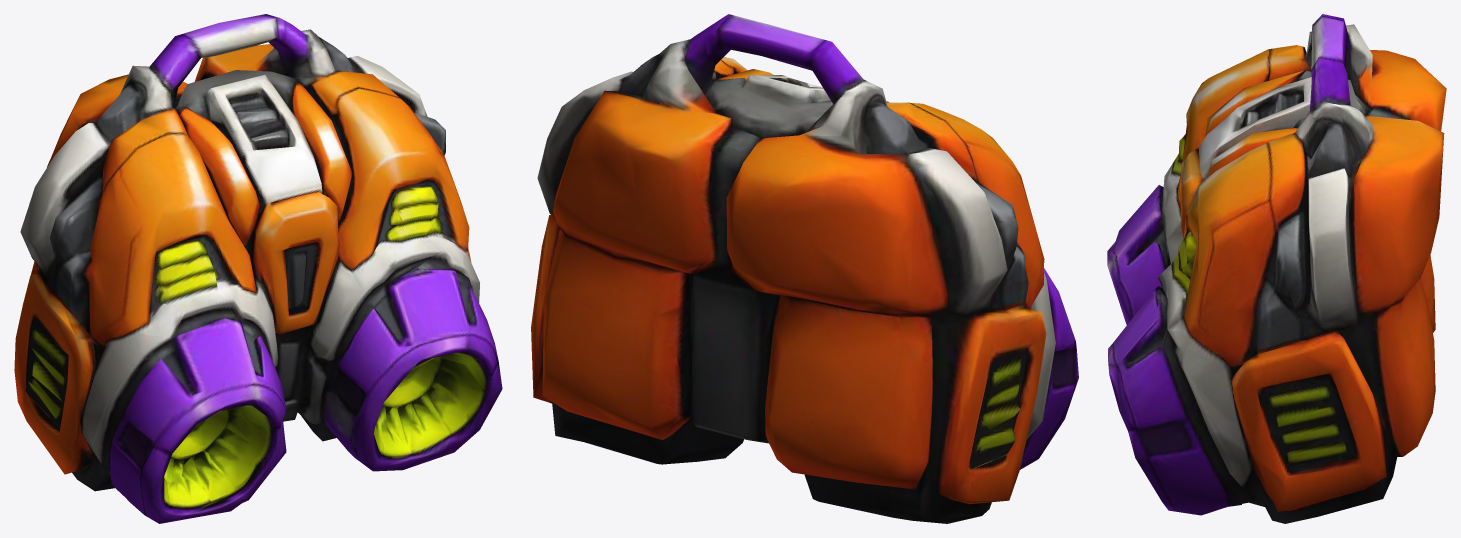
The model's file is G16_jump_jets.glb.
The picture shows the model from 3 angles, left to right: view 1: azimuth 30°, elevation 25°; view 2: azimuth 150°, elevation 25°; view 3: azimuth 270°, elevation 25°; orthographic projection. The views are drawn at different scales.
Parts seen in each view (by area): view 1: tripo_node_d41ef8e8-d306-4a67-8d6f-8c92974b9a26; view 2: tripo_node_d41ef8e8-d306-4a67-8d6f-8c92974b9a26; view 3: tripo_node_d41ef8e8-d306-4a67-8d6f-8c92974b9a26.
Boxes of the visible parts, bbox=[...] form: tripo_node_d41ef8e8-d306-4a67-8d6f-8c92974b9a26: bbox=[14, 14, 502, 523]; tripo_node_d41ef8e8-d306-4a67-8d6f-8c92974b9a26: bbox=[531, 14, 1078, 523]; tripo_node_d41ef8e8-d306-4a67-8d6f-8c92974b9a26: bbox=[1107, 14, 1446, 523].
Bounding box in the file's own units: 1 × 0.9915 × 0.7285.
Materials: 1 (1 with a texture image).
